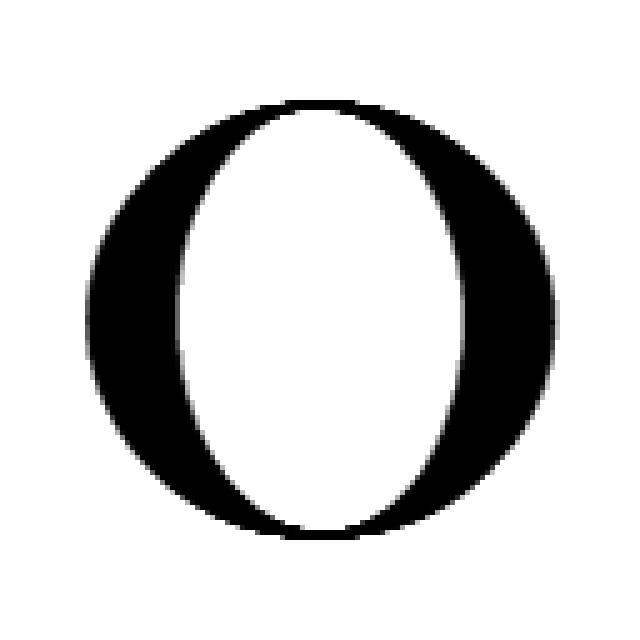O: (85, 95, 560, 545)
